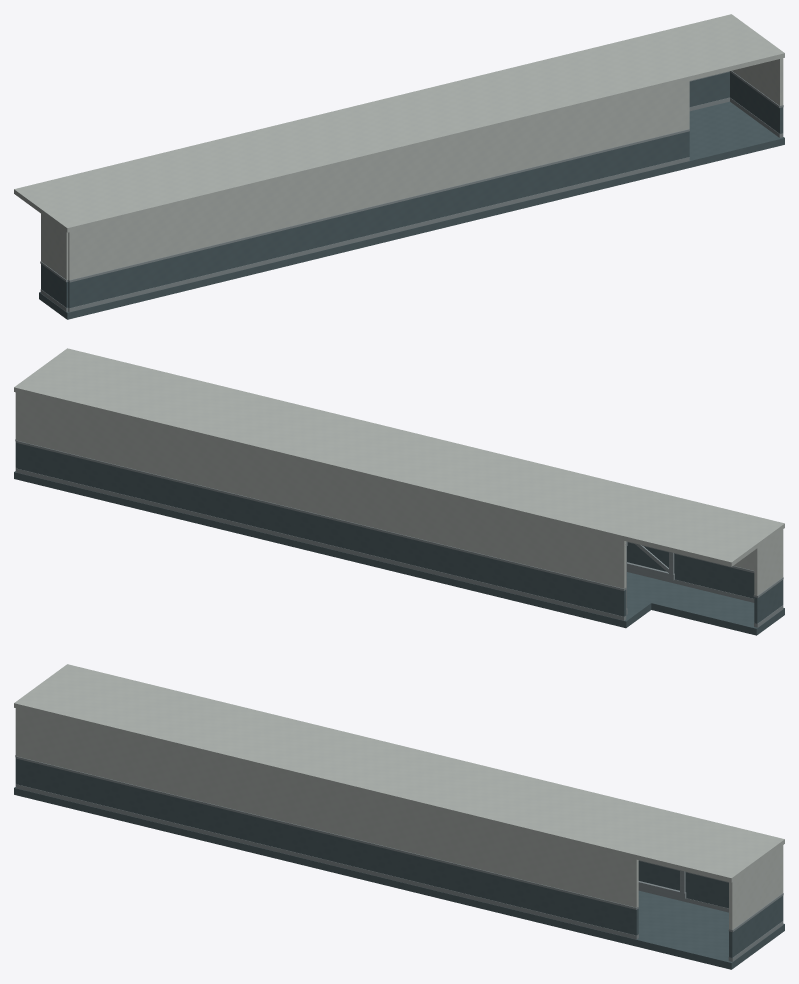
The model's file is QUIET_D15_STAFF_RECEIVING_r001.glb.
The picture shows the model from 3 angles, top to bottom: view 1: azimuth 30°, elevation 25°; view 2: azimuth 150°, elevation 25°; view 3: azimuth 330°, elevation 25°; orthographic projection.
Parts seen in each view (by area): view 1: Q15_Canopy, Q15_Edge1_Enamel, Q15_Edge1_Dado, Q15_MissingFloor, Q15_Edge1_Toe, Q15_Edge1_Reveal, Q15_Edge2_Dado, Q15_Edge2_Enamel, Q15_Edge3_Enamel, Q15_Edge0_Dado, Q15_Edge3_Dado; view 2: Q15_Canopy, Q15_Edge0_Enamel, Q15_Edge0_Dado, Q15_MissingFloor, Q15_Edge0_Toe, Q15_Edge1_Dado, Q15_Edge0_Reveal, Q15_Edge3_Enamel, Q15_Edge3_Dado, Q15_Edge1_Toe; view 3: Q15_Canopy, Q15_Edge1_Enamel, Q15_Edge1_Dado, Q15_MissingFloor, Q15_Edge1_Toe, Q15_Edge2_Enamel, Q15_Edge0_Dado, Q15_Edge1_Reveal, Q15_Edge2_Dado.
Part boxes in pixels (box(x1,y1,x2,y2)): Q15_Canopy: box(14, 14, 784, 232); Q15_Edge1_Enamel: box(68, 81, 689, 280); Q15_Edge1_Dado: box(68, 131, 689, 308); Q15_MissingFloor: box(39, 101, 784, 319); Q15_Edge1_Toe: box(68, 157, 689, 312); Q15_Edge1_Reveal: box(68, 129, 689, 282); Q15_Edge2_Dado: box(730, 72, 783, 133); Q15_Edge2_Enamel: box(732, 58, 783, 105); Q15_Edge3_Enamel: box(41, 214, 68, 279); Q15_Edge0_Dado: box(689, 72, 729, 106); Q15_Edge3_Dado: box(41, 264, 68, 307); Q15_Canopy: box(14, 348, 784, 566); Q15_Edge0_Enamel: box(16, 392, 626, 588); Q15_Edge0_Dado: box(16, 443, 626, 616); Q15_MissingFloor: box(14, 471, 784, 635); Q15_Edge0_Toe: box(16, 468, 626, 620); Q15_Edge1_Dado: box(627, 542, 754, 598); Q15_Edge0_Reveal: box(16, 440, 626, 590); Q15_Edge3_Enamel: box(754, 529, 783, 595); Q15_Edge3_Dado: box(754, 580, 783, 623); Q15_Edge1_Toe: box(627, 569, 754, 602); Q15_Canopy: box(14, 664, 784, 882); Q15_Edge1_Enamel: box(16, 708, 638, 907); Q15_Edge1_Dado: box(16, 758, 638, 935); Q15_MissingFloor: box(14, 787, 784, 969); Q15_Edge1_Toe: box(16, 784, 638, 939); Q15_Edge2_Enamel: box(729, 845, 783, 929); Q15_Edge0_Dado: box(638, 861, 728, 908); Q15_Edge1_Reveal: box(16, 756, 638, 909); Q15_Edge2_Dado: box(729, 895, 783, 957).
Bounding box in the file's own units: 26.4 × 3.22 × 3.4.
Materials: 3 (3 with a texture image).
